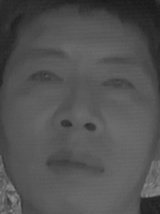eye: (100, 74, 140, 97), (25, 66, 64, 87)
mouth: (45, 145, 106, 183)
